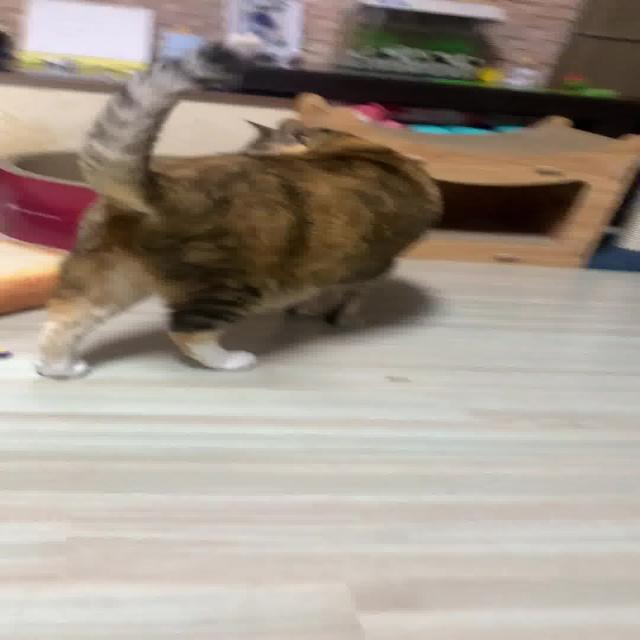cat: (24, 30, 455, 381)
